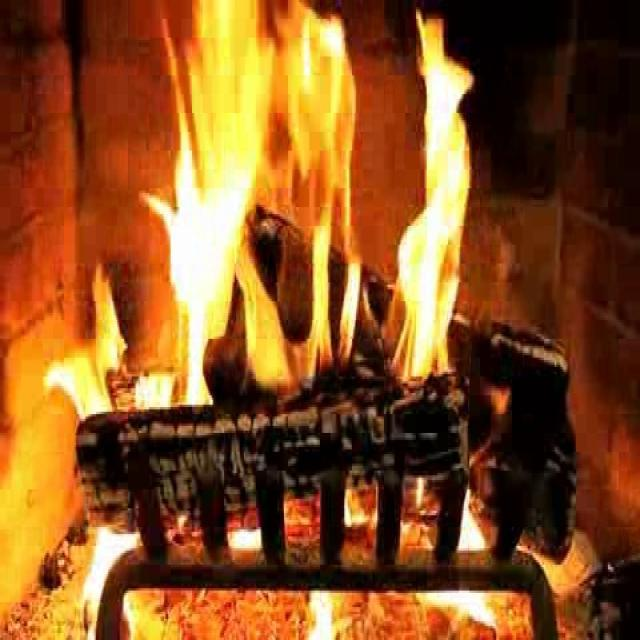Fire: (159, 11, 474, 394)
